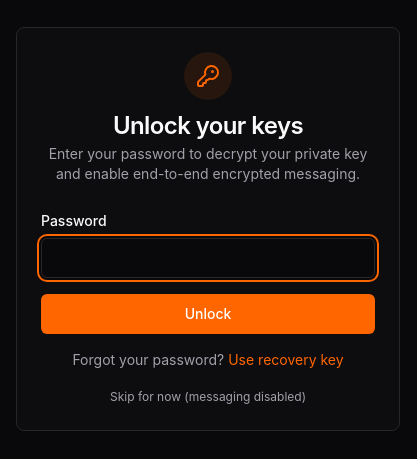
Test case: UnlockPage — error handling › shows validation error for empty password
Click the button "Unlock". click: (208, 314)
box: [41,294,375,334]
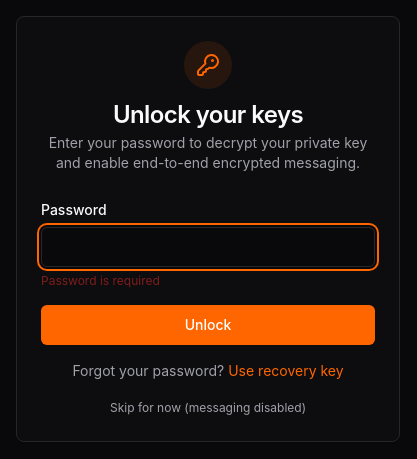
Expected: the text "Password is required" is shown, [41,273,160,288]
